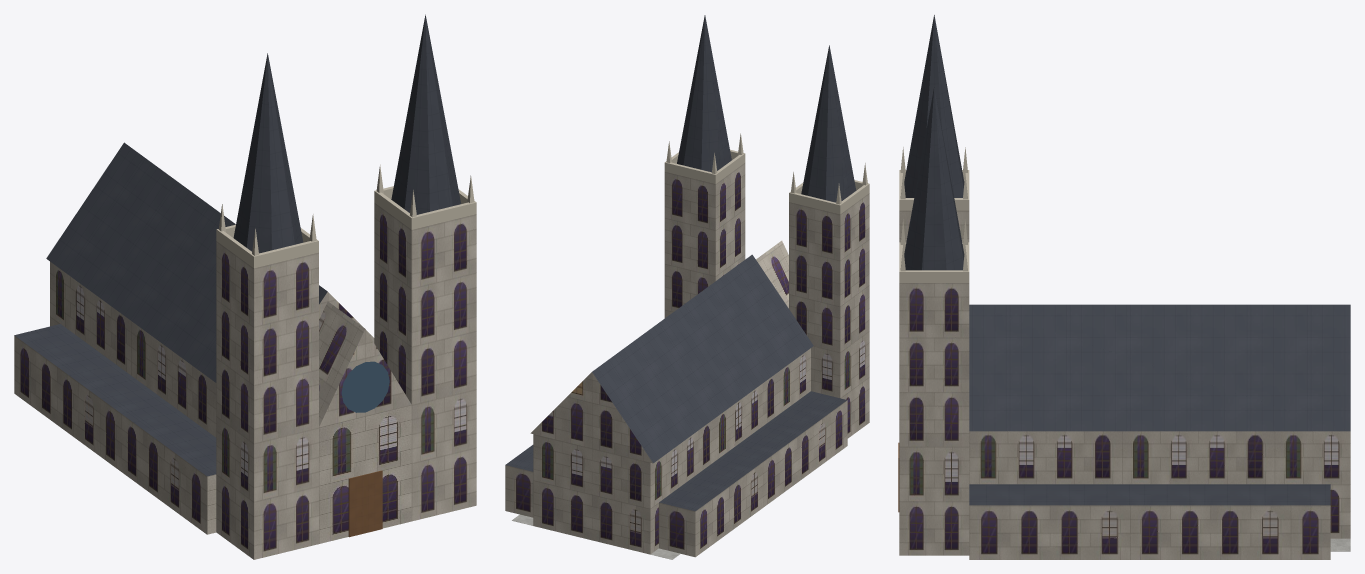
File: 080_gothic_church.glb
The picture shows the model from 3 angles, left to right: view 1: azimuth 30°, elevation 25°; view 2: azimuth 150°, elevation 25°; view 3: azimuth 270°, elevation 25°; orthographic projection. The views are drawn at different scales.
Visible parts, largest first — view 1: 080_gothic_church; view 2: 080_gothic_church; view 3: 080_gothic_church.
Boxes of the visible parts, bbox=[...] form: 080_gothic_church: bbox=[14, 14, 476, 559]; 080_gothic_church: bbox=[505, 15, 869, 559]; 080_gothic_church: bbox=[898, 15, 1350, 559].
Bounding box in the file's own units: 26 × 50 × 45.1.
7 materials, 5 textured.
